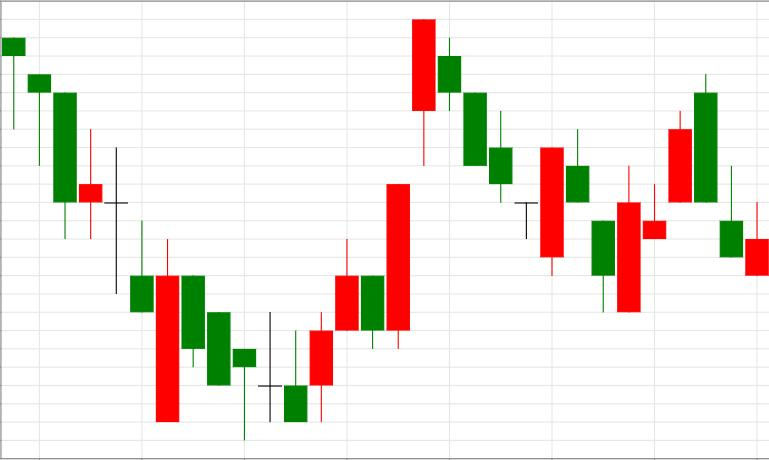bearish_engulfing_fall: (616, 74, 717, 313)
inverse_hammer_rise: (182, 275, 308, 441)
